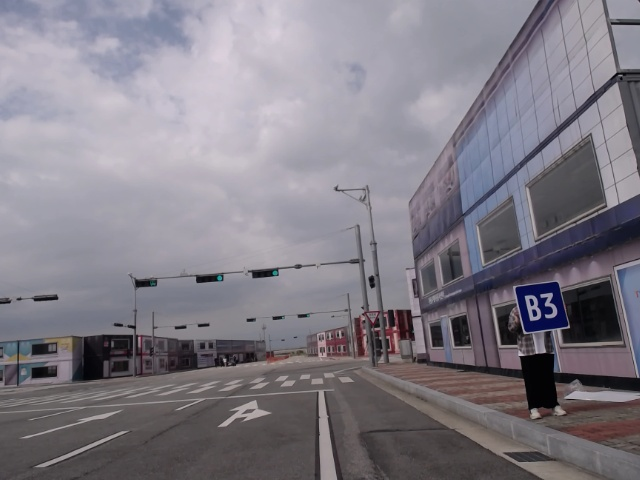delivery_b3: (511, 280, 571, 334)
straight_green_4: (250, 267, 283, 280), (194, 272, 224, 285), (296, 312, 312, 320), (271, 314, 286, 322)
